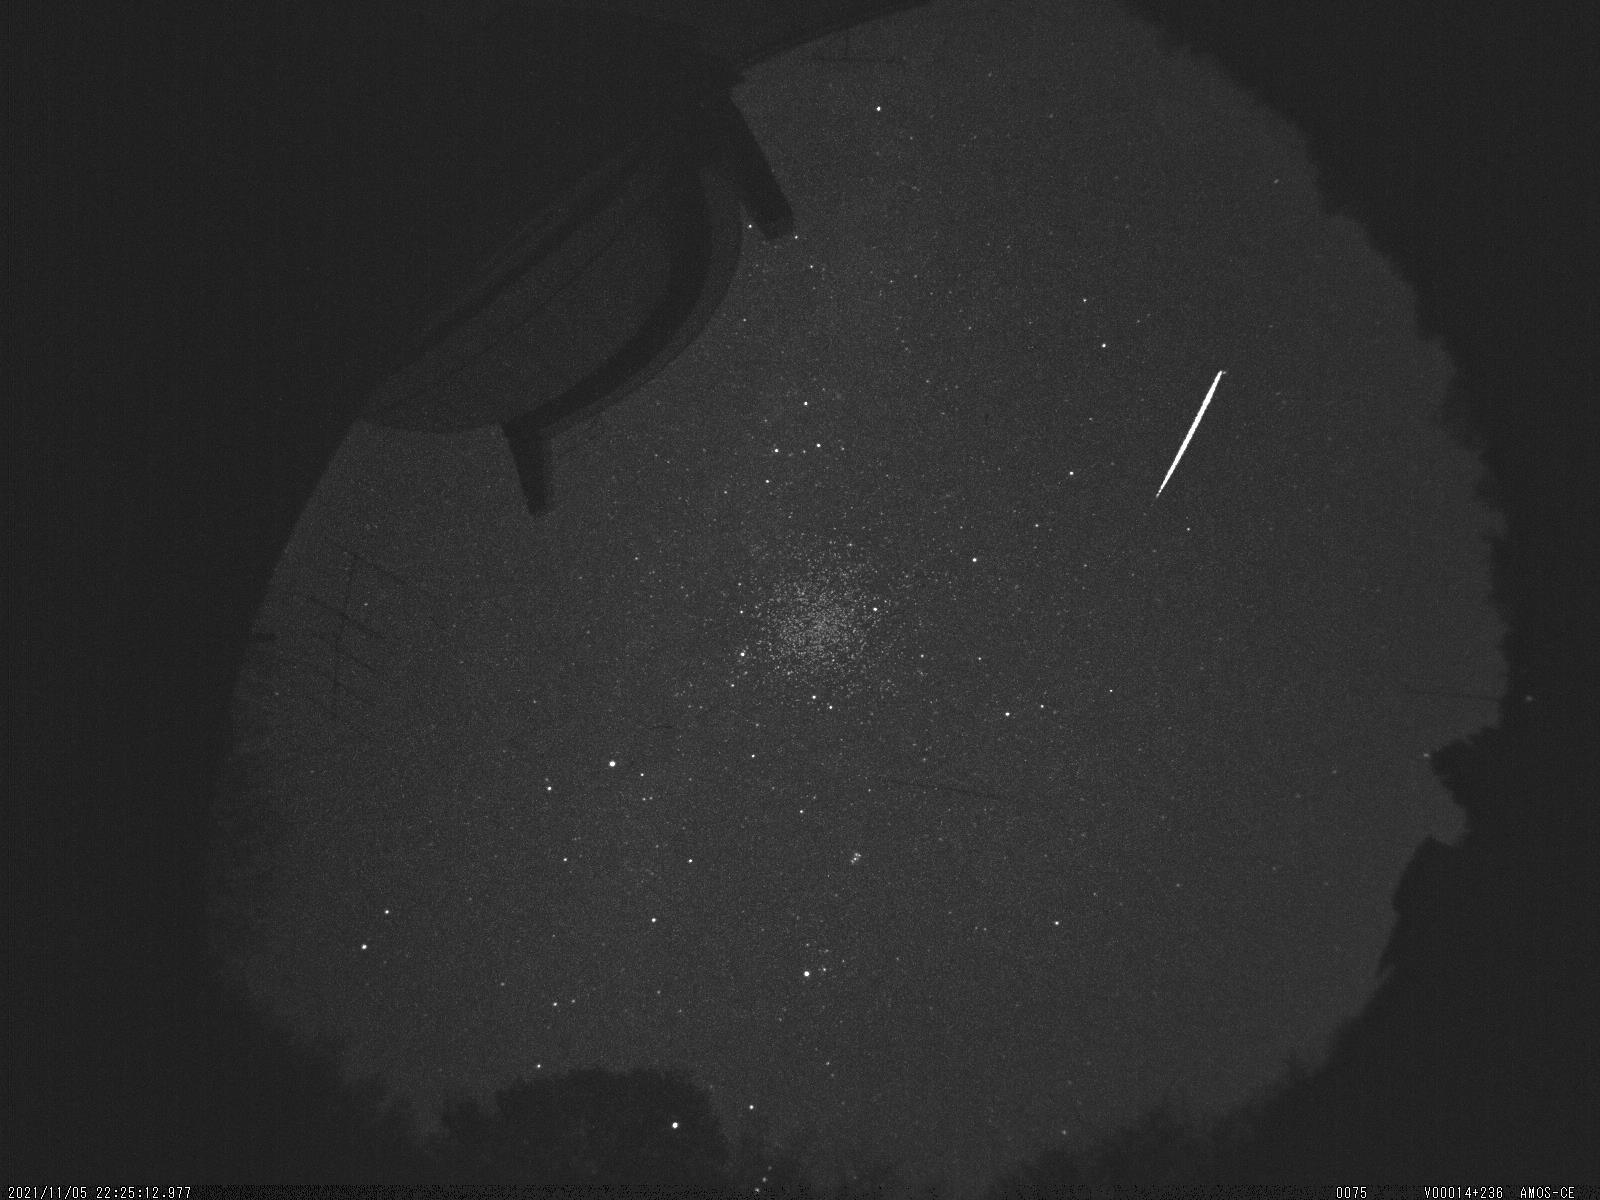Meteor: (1145, 354, 1232, 513)
